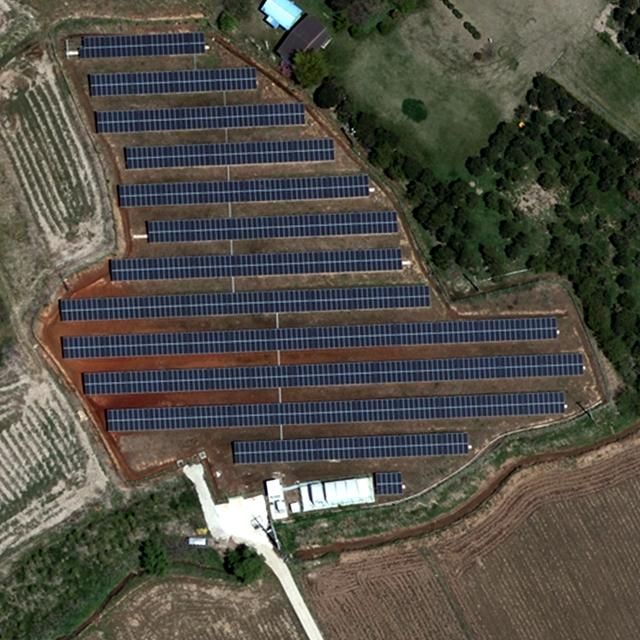panel: (57, 312, 560, 365), (81, 348, 586, 400), (101, 386, 568, 437), (56, 281, 429, 324), (109, 247, 403, 283), (230, 427, 468, 470), (113, 171, 371, 209), (145, 208, 401, 245), (123, 138, 335, 172), (94, 102, 306, 135), (87, 65, 259, 95), (75, 31, 208, 60), (373, 471, 404, 497)
